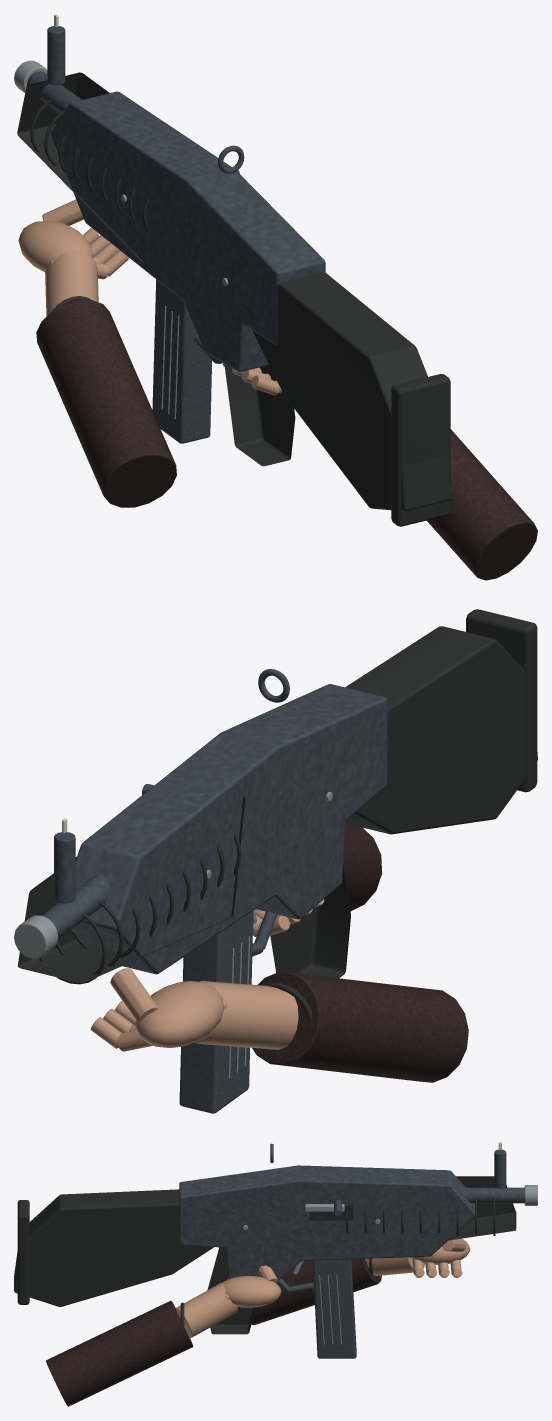
3 views of the same model, one above another, from view 1: azimuth 30°, elevation 25°; view 2: azimuth 150°, elevation 25°; view 3: azimuth 270°, elevation 25° (orthographic). The views are drawn at different scales.
Parts seen in each view (by area): view 1: mp5__BODY, mp5__HAND_L, mp5__HAND_R, mp5__MAGAZINE; view 2: mp5__BODY, mp5__HAND_L, mp5__MAGAZINE, mp5__HAND_R; view 3: mp5__BODY, mp5__HAND_R, mp5__HAND_L, mp5__MAGAZINE, mp5__BOLT.
Part boxes in pixels (box(x1,y1,x2,y2)): mp5__BODY: box(14, 14, 451, 526); mp5__HAND_L: box(18, 199, 176, 507); mp5__HAND_R: box(222, 362, 537, 580); mp5__MAGAZINE: box(152, 279, 212, 443); mp5__BODY: box(14, 609, 537, 984); mp5__HAND_L: box(90, 968, 468, 1082); mp5__MAGAZINE: box(179, 911, 253, 1113); mp5__HAND_R: box(253, 823, 382, 936); mp5__BODY: box(14, 1142, 537, 1334); mp5__HAND_R: box(46, 1265, 281, 1406); mp5__HAND_L: box(251, 1238, 470, 1325); mp5__MAGAZINE: box(312, 1259, 356, 1358); mp5__BOLT: box(305, 1200, 344, 1216).
Bounding box in the file's own units: 0.3294 × 0.3781 × 0.7916.
Materials: 6 (2 with a texture image).
